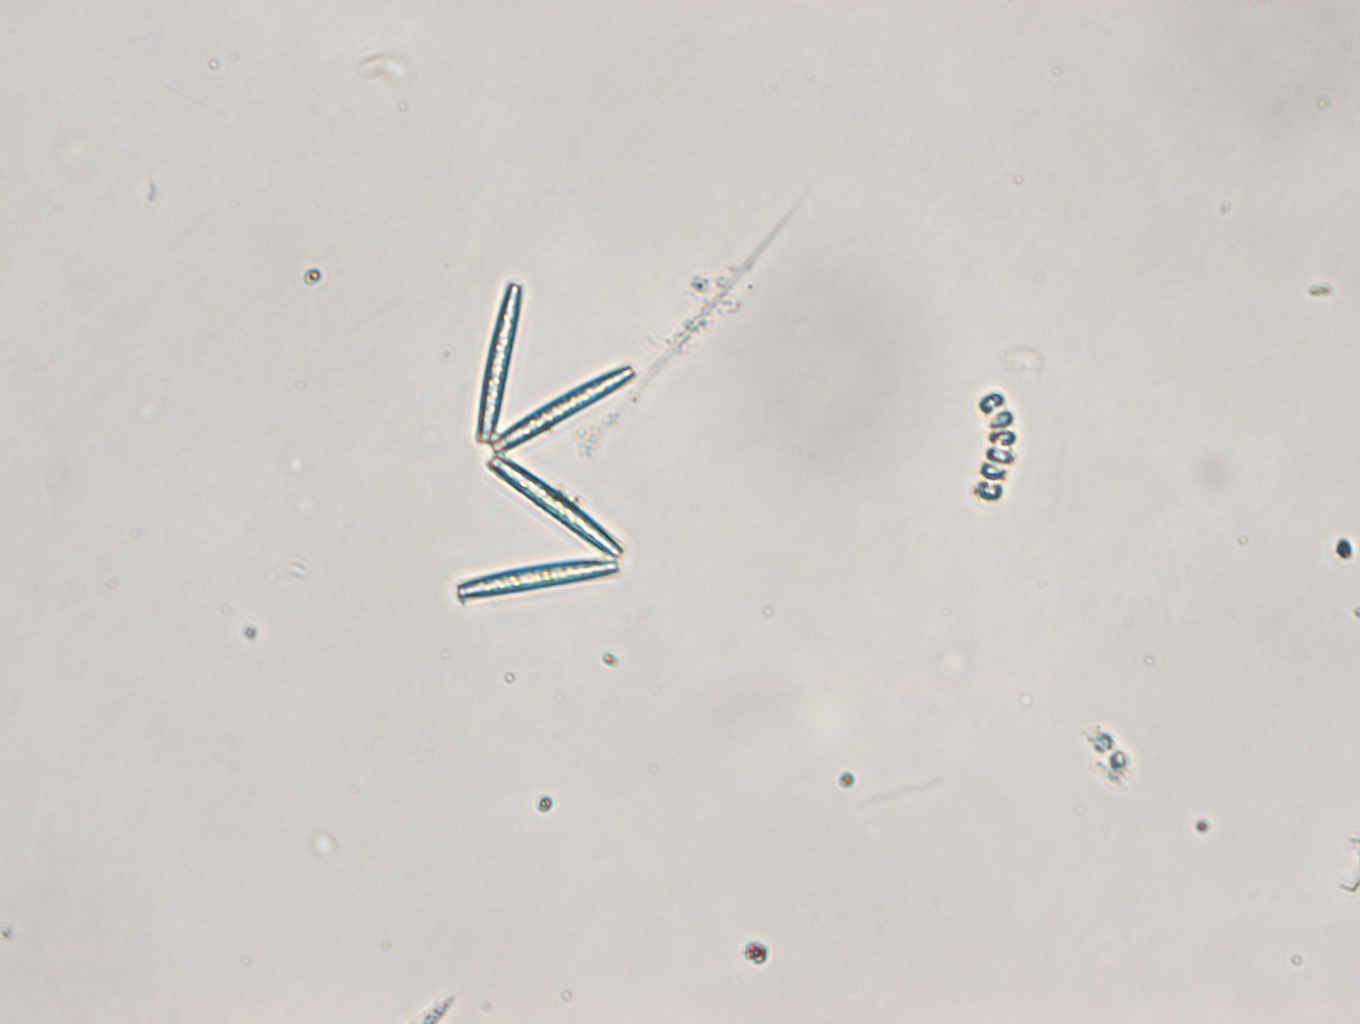skeletonema: (972, 388, 1017, 504)
thalassionema nitzschioides: (450, 278, 633, 603)
